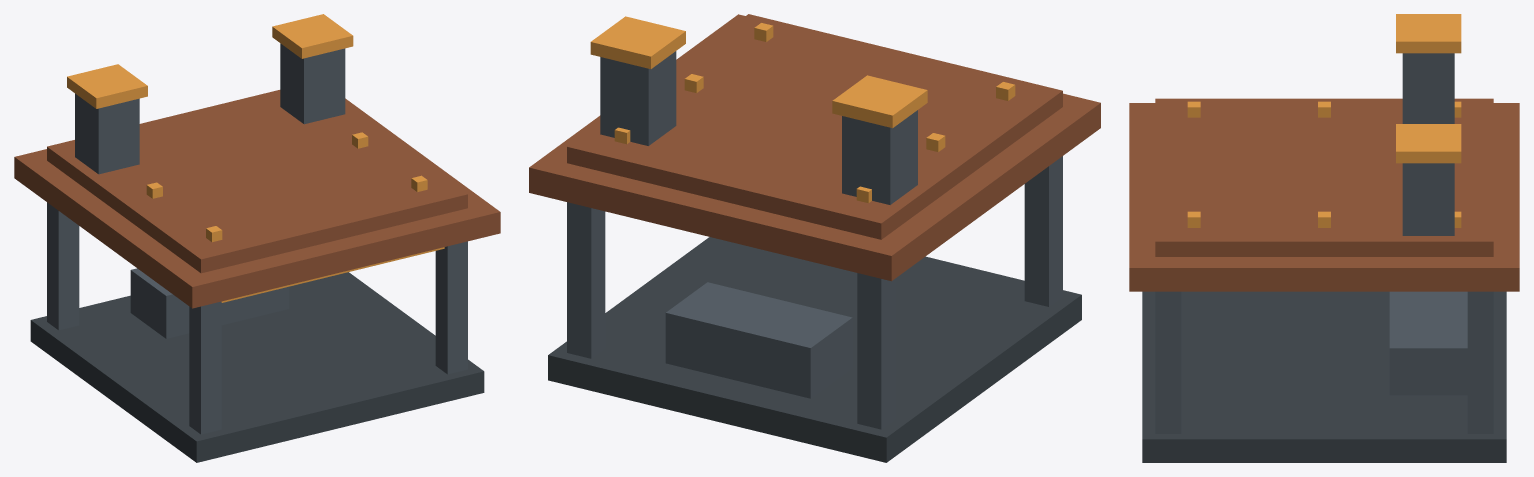
Rendered from theme_dwarf.glb.
3 views of the same model, side by side, from view 1: azimuth 30°, elevation 25°; view 2: azimuth 150°, elevation 25°; view 3: azimuth 270°, elevation 25° (orthographic). The views are drawn at different scales.
Parts seen in each view (by area): view 1: theme_dwarf; view 2: theme_dwarf; view 3: theme_dwarf.
Part boxes in pixels (box(x1,y1,x2,y2)): theme_dwarf: box(14, 14, 500, 462); theme_dwarf: box(529, 14, 1100, 462); theme_dwarf: box(1129, 14, 1519, 462).
Bounding box in the file's own units: 15 × 12.85 × 15.
